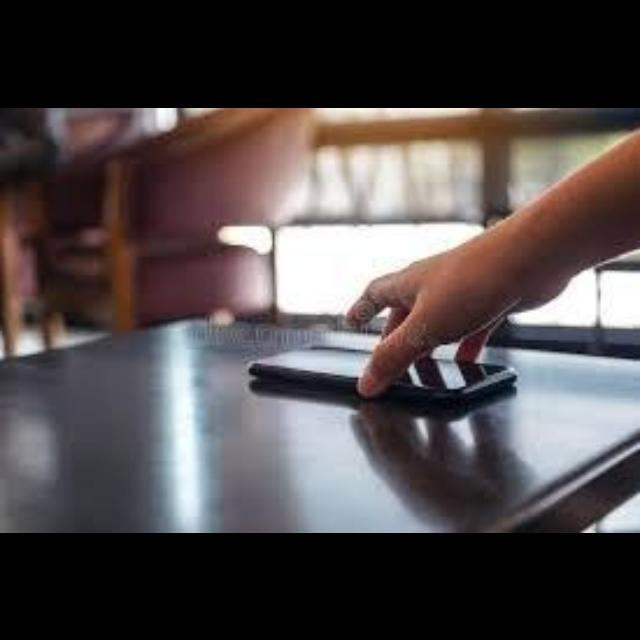Phone: (255, 330, 522, 438)
